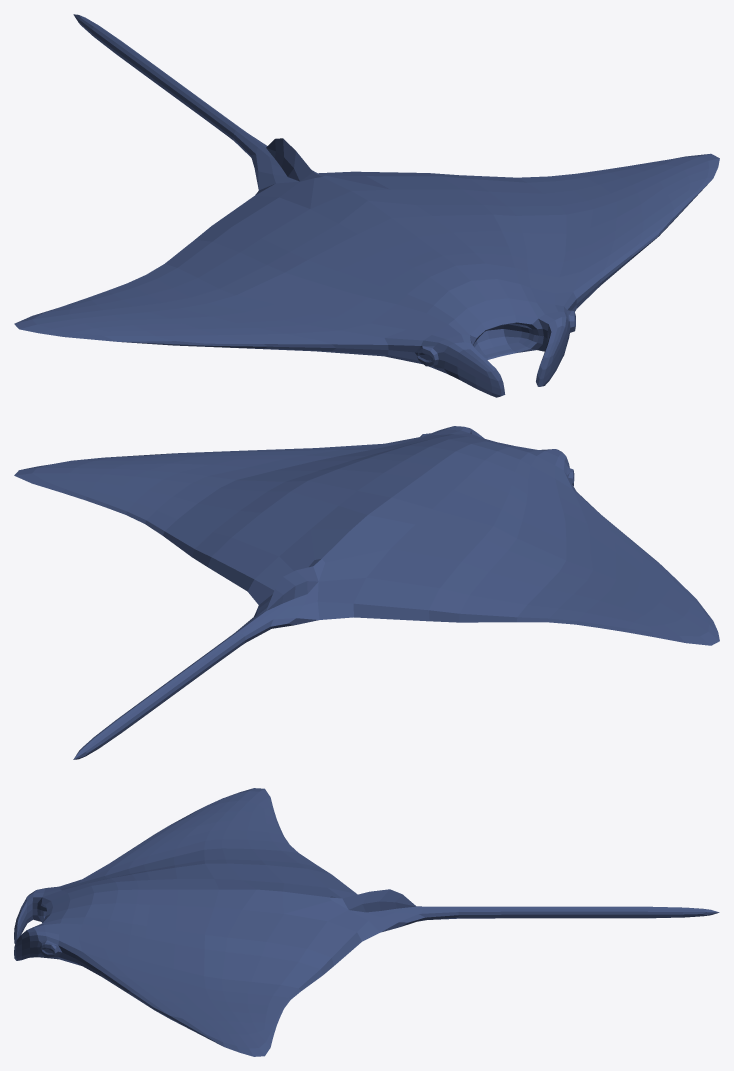
The model's file is manta ray fixed 1.rig.fbx.
3 views of the same model, one above another, from view 1: azimuth 30°, elevation 25°; view 2: azimuth 150°, elevation 25°; view 3: azimuth 270°, elevation 25° (orthographic). The views are drawn at different scales.
Parts seen in each view (by area): view 1: 2 Giant manta ray. SLV1; view 2: 2 Giant manta ray. SLV1; view 3: 2 Giant manta ray. SLV1.
Boxes of the visible parts, x1,y1,x2,y2 form: 2 Giant manta ray. SLV1: (14, 14, 719, 397); 2 Giant manta ray. SLV1: (14, 426, 719, 759); 2 Giant manta ray. SLV1: (14, 788, 719, 1056).
Bounding box in the file's own units: 605 × 65.76 × 672.
